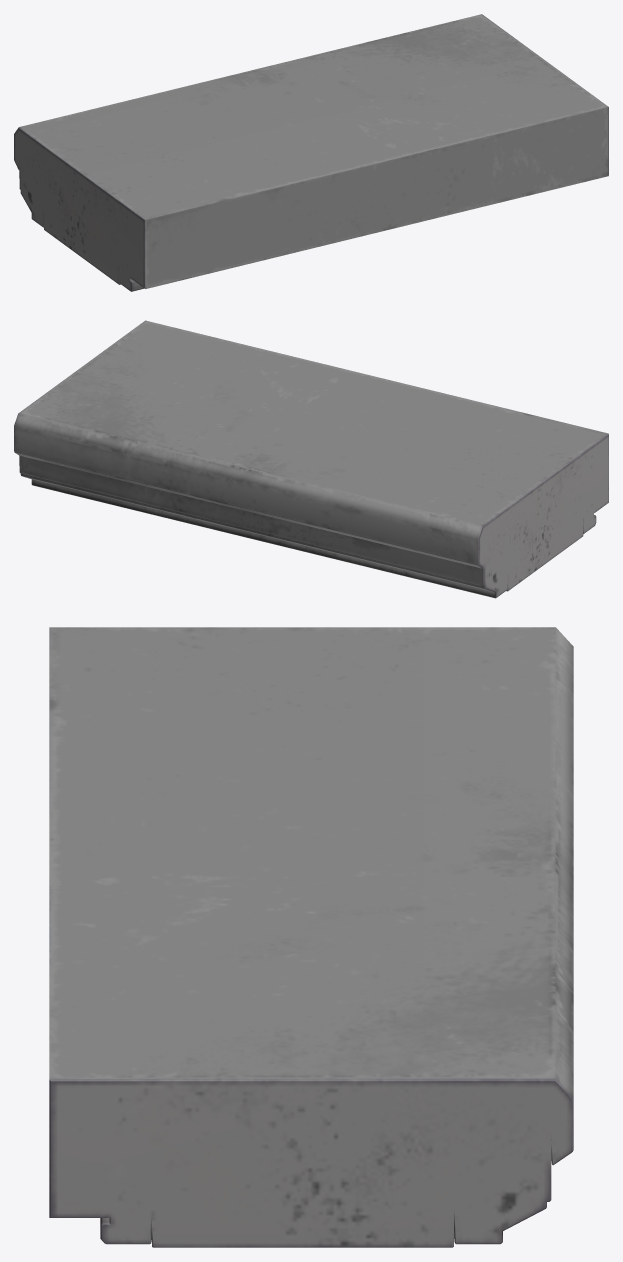
File: SM_CorridorRoofSet02.fbx
The picture shows the model from 3 angles, top to bottom: view 1: azimuth 30°, elevation 25°; view 2: azimuth 150°, elevation 25°; view 3: azimuth 270°, elevation 25°; orthographic projection. The views are drawn at different scales.
Parts seen in each view (by area): view 1: SM_CorridorRoofSet02_LOD0; view 2: SM_CorridorRoofSet02_LOD0; view 3: SM_CorridorRoofSet02_LOD0.
Part boxes in pixels (x1,y1,x2,y2): SM_CorridorRoofSet02_LOD0: (14, 14, 608, 291); SM_CorridorRoofSet02_LOD0: (14, 320, 608, 598); SM_CorridorRoofSet02_LOD0: (49, 627, 573, 1247).
Bounding box in the file's own units: 240 × 117 × 41.57.
Materials: 1 (1 with a texture image).
